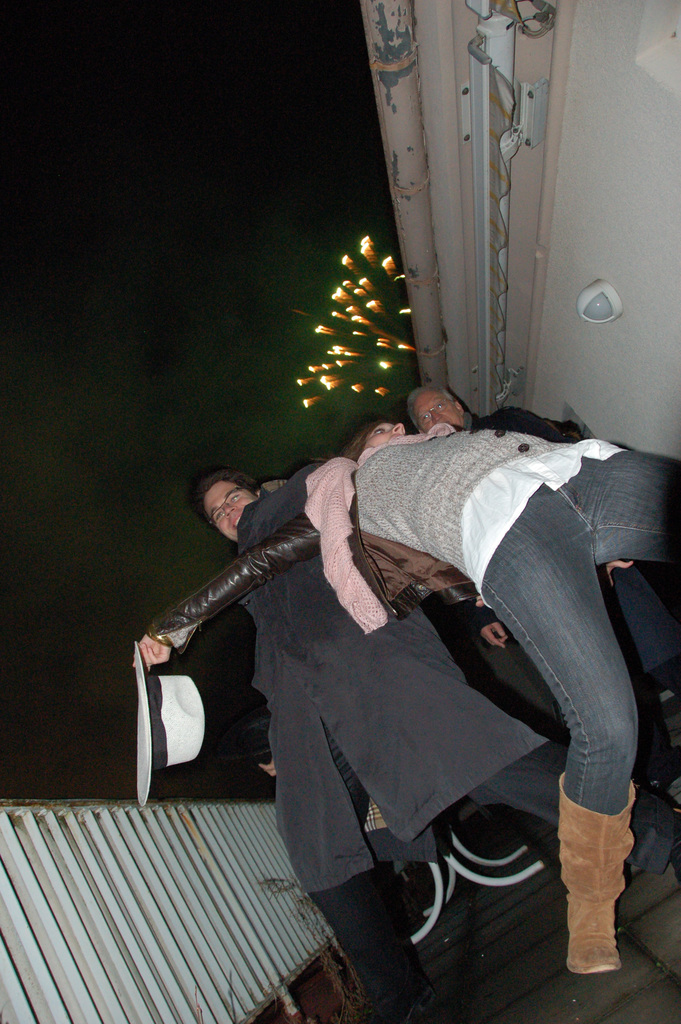Footwear: (561, 786, 649, 997)
